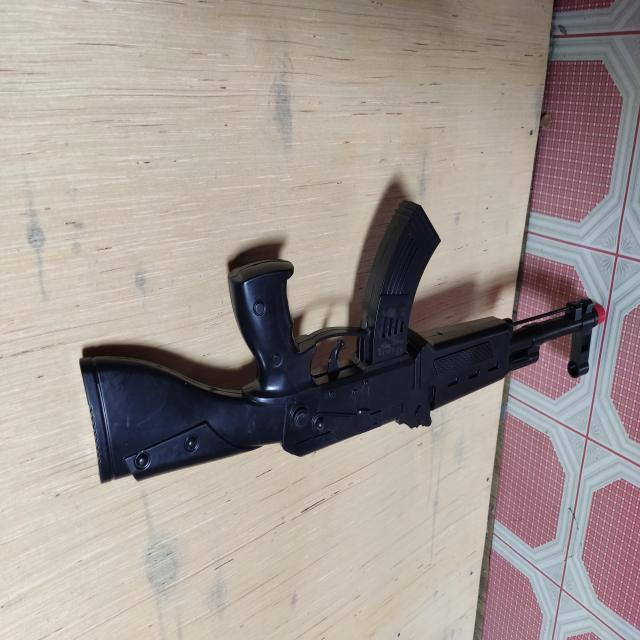rifle: (79, 200, 606, 482)
